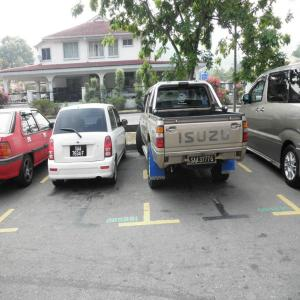Vehicle-registration-plate: (190, 156, 216, 164), (70, 147, 88, 157)
